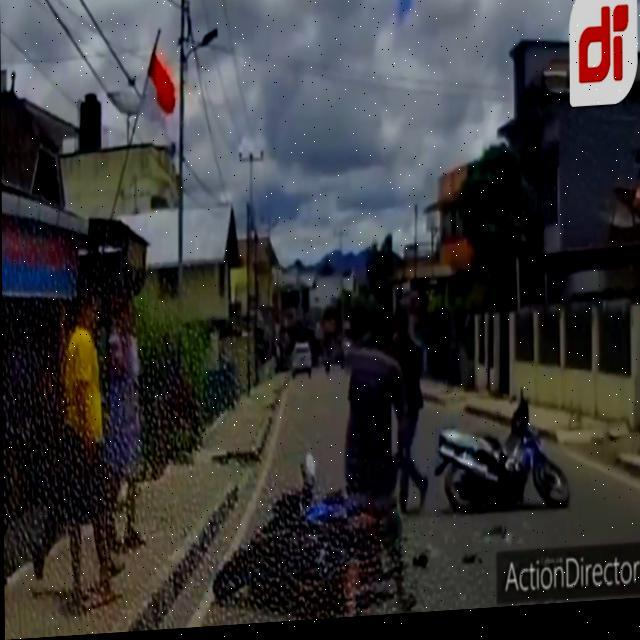multiple_accident: (415, 355, 603, 527), (220, 455, 400, 620)
